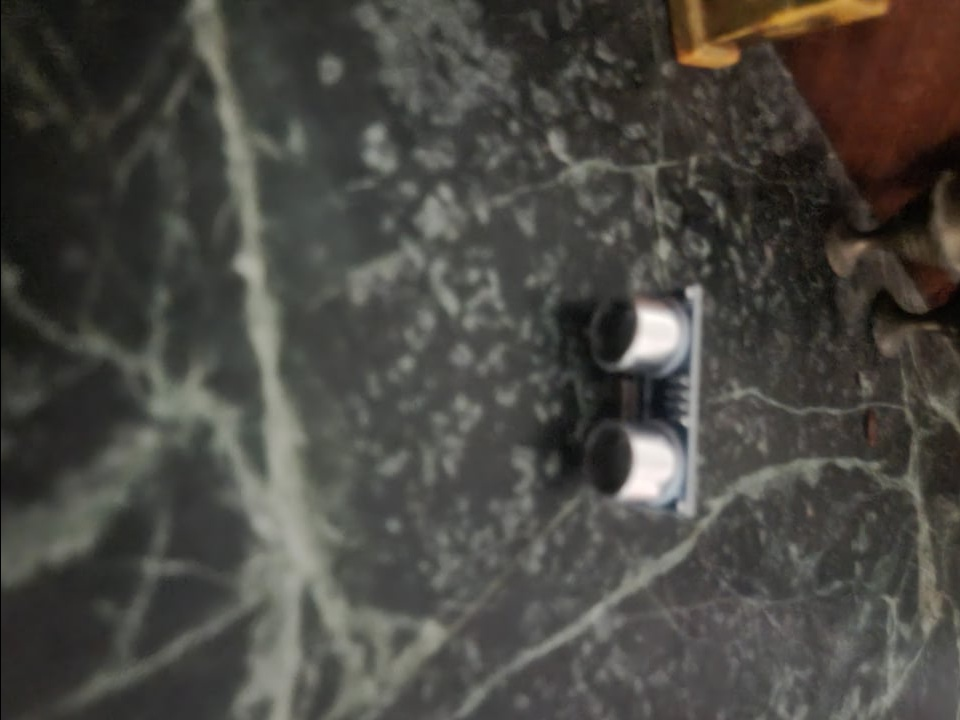SENSOR: (576, 283, 702, 512)
